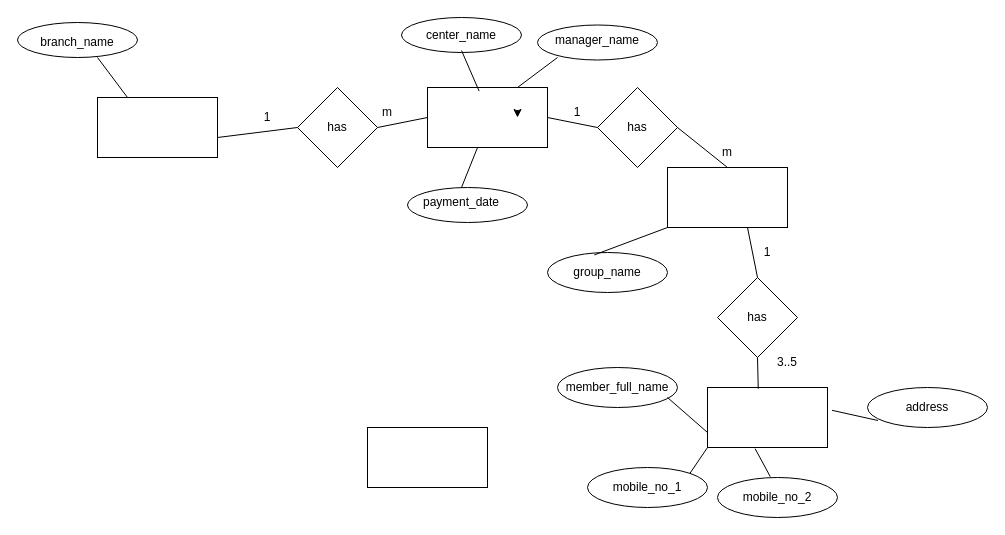
Some shapes in this 1005 by 535 pixel diagram are drawn without their labels. The box of each missing label's shape, as (x1, y1, x2, y2) in pixels:
Branch: (96, 96, 218, 158)
Center: (426, 86, 548, 148)
Group: (666, 166, 788, 228)
Loan: (366, 426, 488, 488)
Member: (706, 386, 828, 448)
